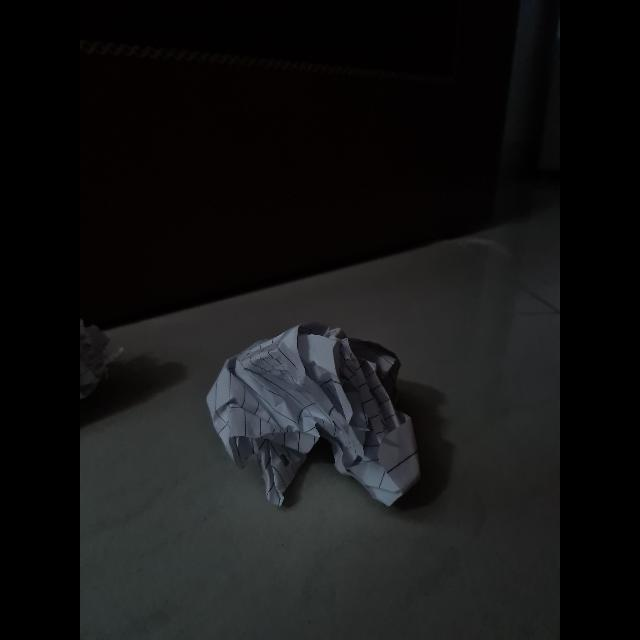trash: (208, 331, 414, 499)
